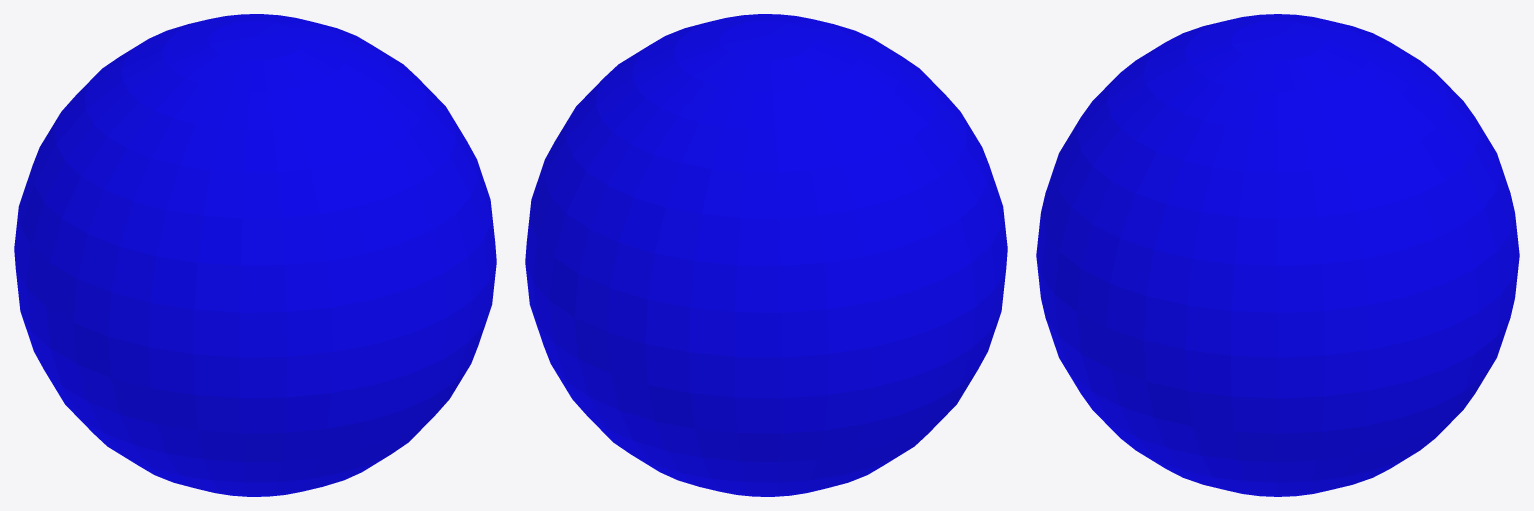
The model's file is talking_sphere.gltf.
3 renders of one model, left to right at view 1: azimuth 30°, elevation 25°; view 2: azimuth 150°, elevation 25°; view 3: azimuth 270°, elevation 25°, orthographic.
Visible parts, largest first — view 1: TalkingSphere; view 2: TalkingSphere; view 3: TalkingSphere.
Boxes of the visible parts, x1,y1,x2,y2 form: TalkingSphere: (14, 14, 496, 496); TalkingSphere: (525, 14, 1007, 496); TalkingSphere: (1036, 14, 1519, 496).
Size of what is drawn, in the model's own units: 2 by 2 by 2.
